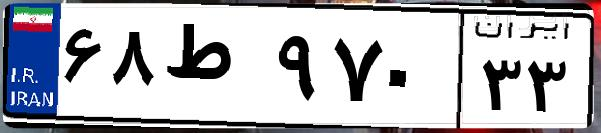0: (385, 28, 445, 110)
3: (475, 38, 525, 113), (525, 38, 570, 115)
6: (57, 26, 110, 100)
7: (330, 28, 385, 110)
8: (110, 28, 158, 98)
9: (270, 28, 330, 110)
ط: (158, 20, 270, 120)
